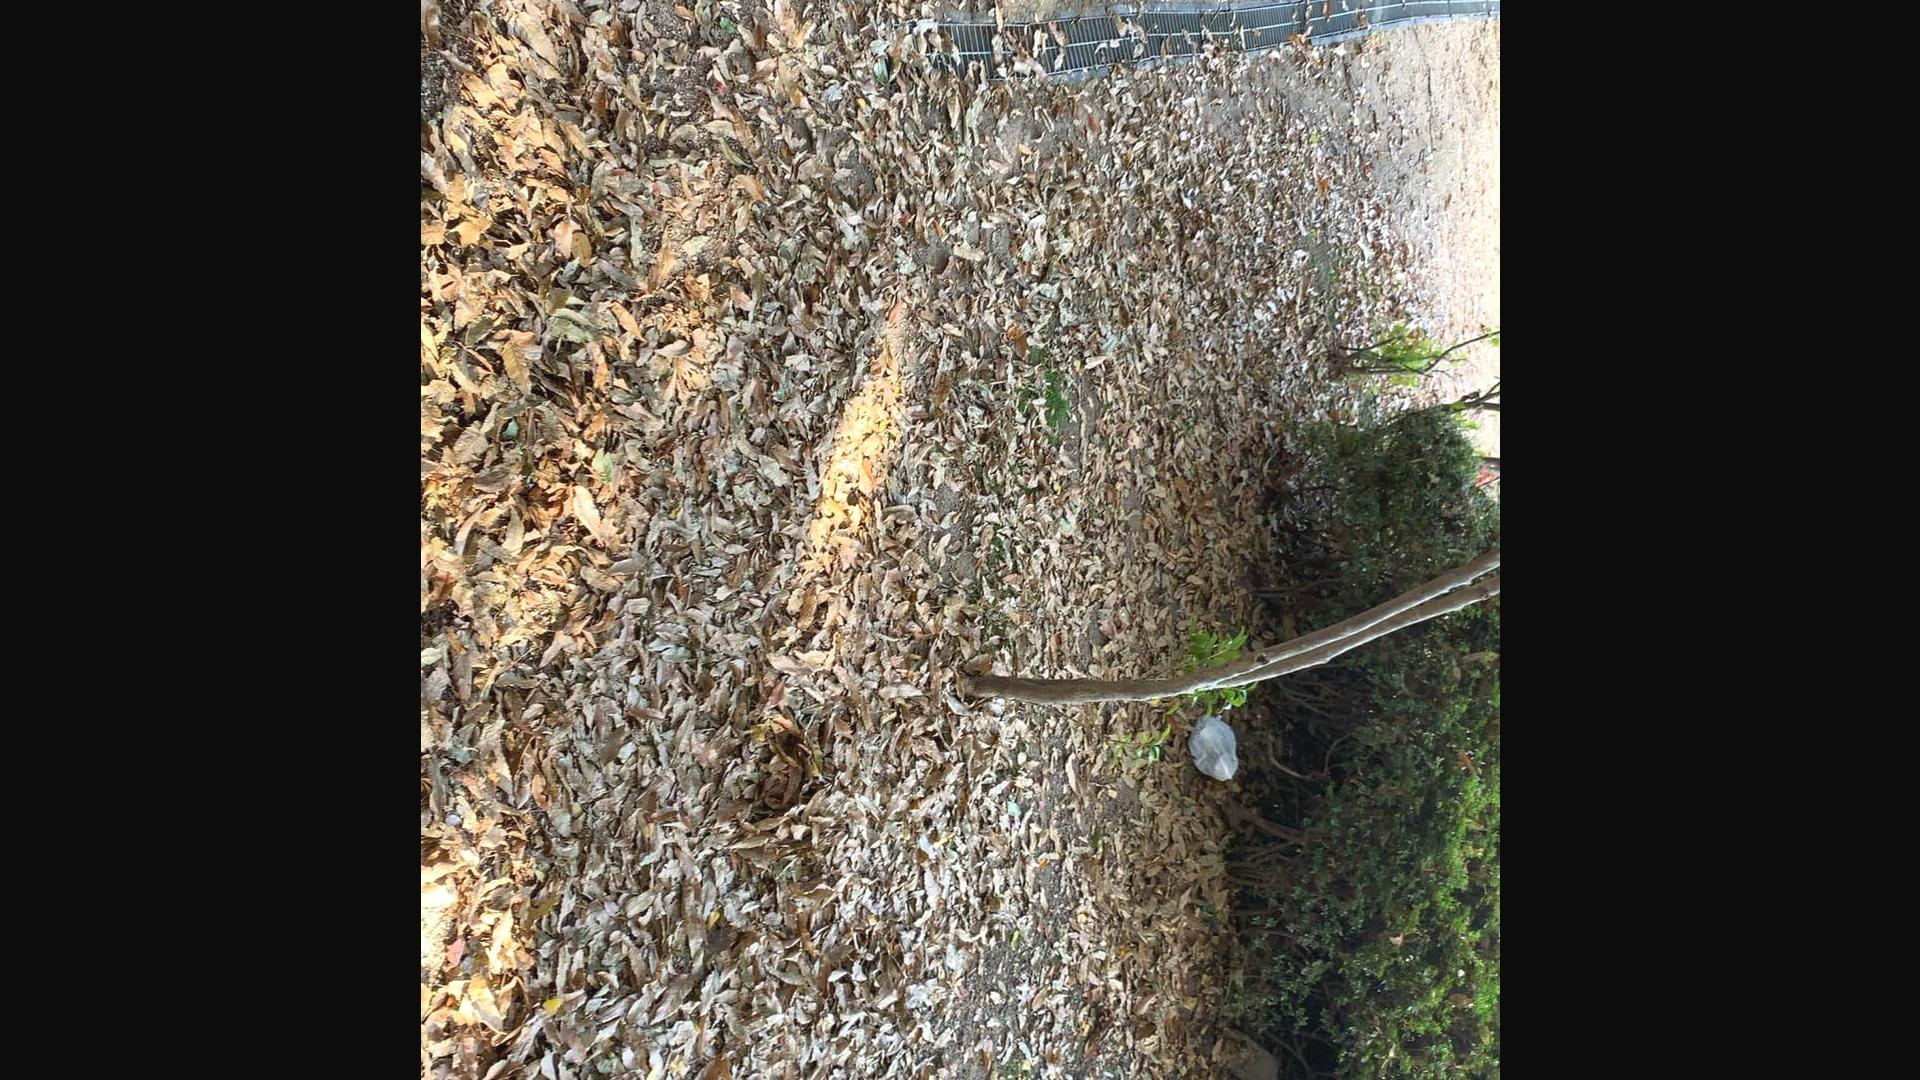white_bag: (1187, 713, 1242, 783)
